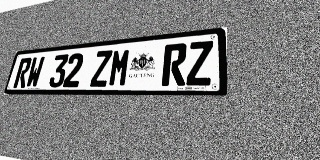2: (63, 53, 85, 87)
3: (48, 54, 69, 87)
M: (108, 48, 131, 87)
R: (161, 43, 187, 86), (13, 57, 33, 88)
W: (25, 56, 45, 88)
Z: (186, 40, 213, 86), (90, 50, 113, 87)
